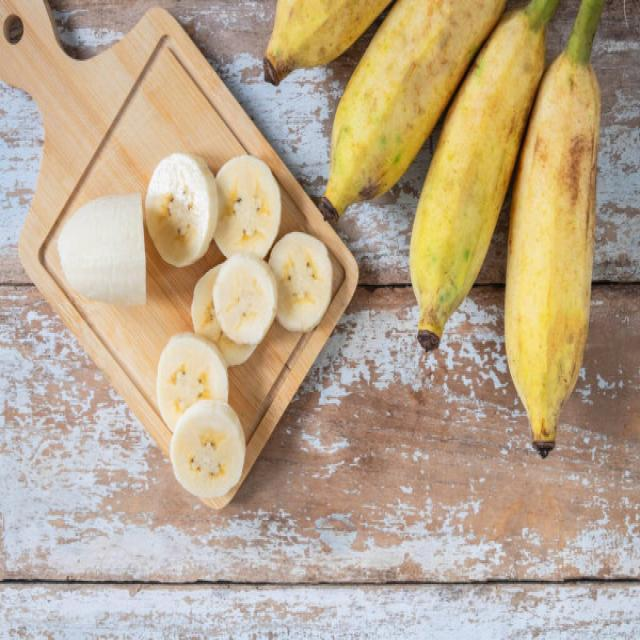banana: (402, 0, 554, 361), (504, 0, 610, 465), (317, 0, 517, 211), (261, 0, 401, 77)
